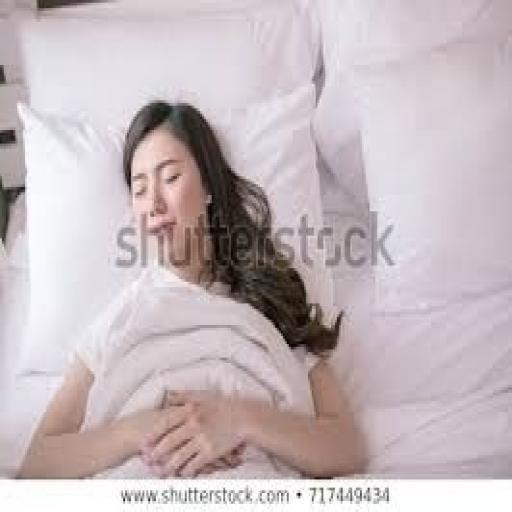sleeping: (14, 98, 366, 480)
